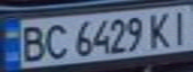2: (109, 15, 130, 54)
4: (90, 16, 115, 55)
6: (72, 18, 93, 57)
9: (124, 14, 151, 53)
B: (12, 22, 51, 63)
C: (39, 21, 72, 61)
I: (166, 7, 193, 46)
K: (145, 9, 178, 50)
